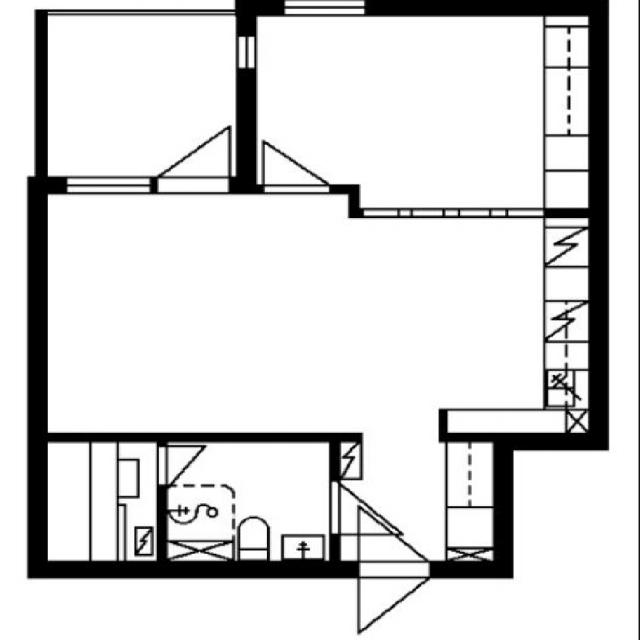door: (359, 498, 430, 578), (359, 561, 430, 639), (158, 116, 228, 194), (263, 124, 331, 194), (328, 482, 398, 532), (157, 446, 214, 486)
